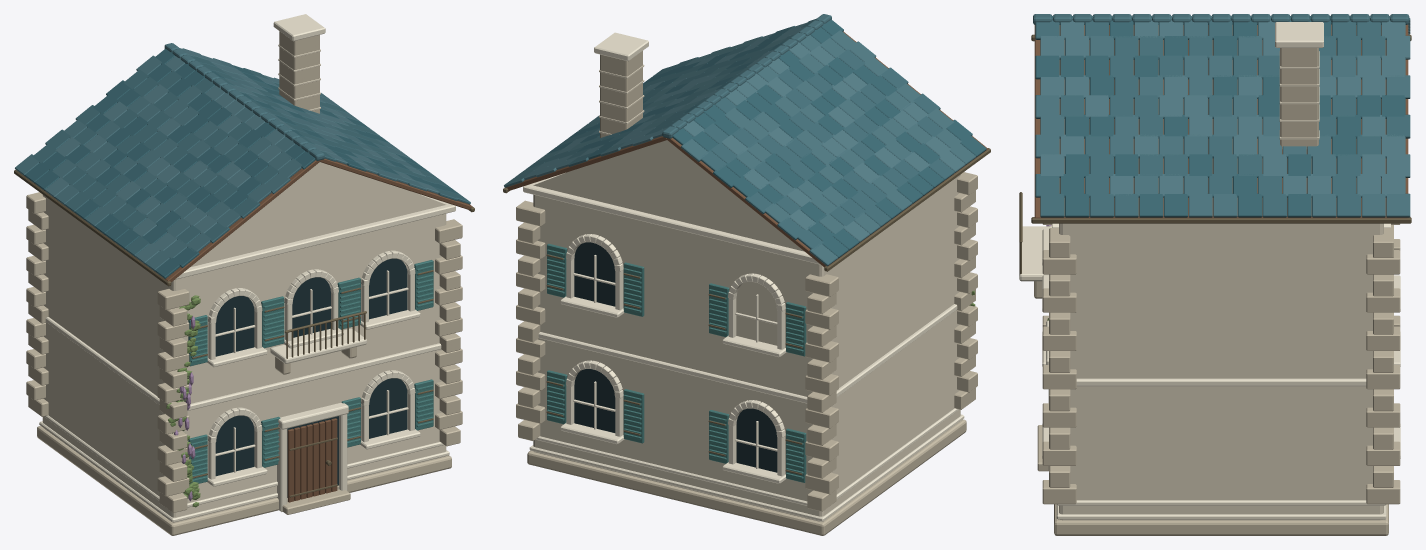
The model's file is aeolia-house.glb.
3 views of the same model, side by side, from view 1: azimuth 30°, elevation 25°; view 2: azimuth 150°, elevation 25°; view 3: azimuth 270°, elevation 25° (orthographic). The views are drawn at different scales.
Visible parts, largest first — view 1: Warm lime plaster, Carved limestone, Pale window mouldings, Slate 2, Slate 0, Slate 1, Window recess, Slate 3, Painted shutters, Aged chestnut, Bronze ironwork, Climbing leaves (+1 smaller); view 2: Warm lime plaster, Carved limestone, Pale window mouldings, Slate 2, Slate 0, Slate 1, Slate 3, Painted shutters, Window recess, Aged chestnut, Bronze ironwork; view 3: Warm lime plaster, Carved limestone, Slate 1, Slate 3, Slate 2, Slate 0, Pale window mouldings, Aged chestnut, Bronze ironwork.
Part boxes in pixels (x1,y1,x2,y2): Warm lime plaster: (42, 44, 446, 522); Carved limestone: (26, 31, 462, 535); Pale window mouldings: (39, 14, 455, 522); Slate 2: (15, 43, 427, 271); Slate 0: (25, 48, 460, 278); Slate 1: (32, 55, 470, 256); Window recess: (215, 258, 407, 497); Slate 3: (45, 48, 439, 263); Painted shutters: (188, 260, 433, 483); Aged chestnut: (16, 158, 472, 502); Bronze ironwork: (14, 169, 474, 497); Climbing leaves: (166, 295, 200, 507); Warm lime plaster: (533, 64, 960, 521); Carved limestone: (516, 51, 977, 535); Pale window mouldings: (523, 32, 964, 521); Slate 2: (504, 14, 975, 266); Slate 0: (546, 19, 986, 258); Slate 1: (525, 19, 954, 249); Slate 3: (524, 22, 965, 242); Painted shutters: (547, 243, 806, 482); Window recess: (574, 242, 777, 472); Aged chestnut: (506, 31, 987, 267); Bronze ironwork: (503, 148, 990, 475); Warm lime plaster: (1059, 51, 1383, 520); Carved limestone: (1034, 48, 1400, 535); Slate 1: (1035, 16, 1410, 217); Slate 3: (1040, 16, 1410, 197); Slate 2: (1033, 14, 1410, 217); Slate 0: (1035, 16, 1410, 217); Pale window mouldings: (1019, 22, 1400, 519); Aged chestnut: (1034, 24, 1408, 218); Bronze ironwork: (1019, 34, 1411, 274).
Bounding box in the file's own units: 13.46 × 16.08 × 12.07.
